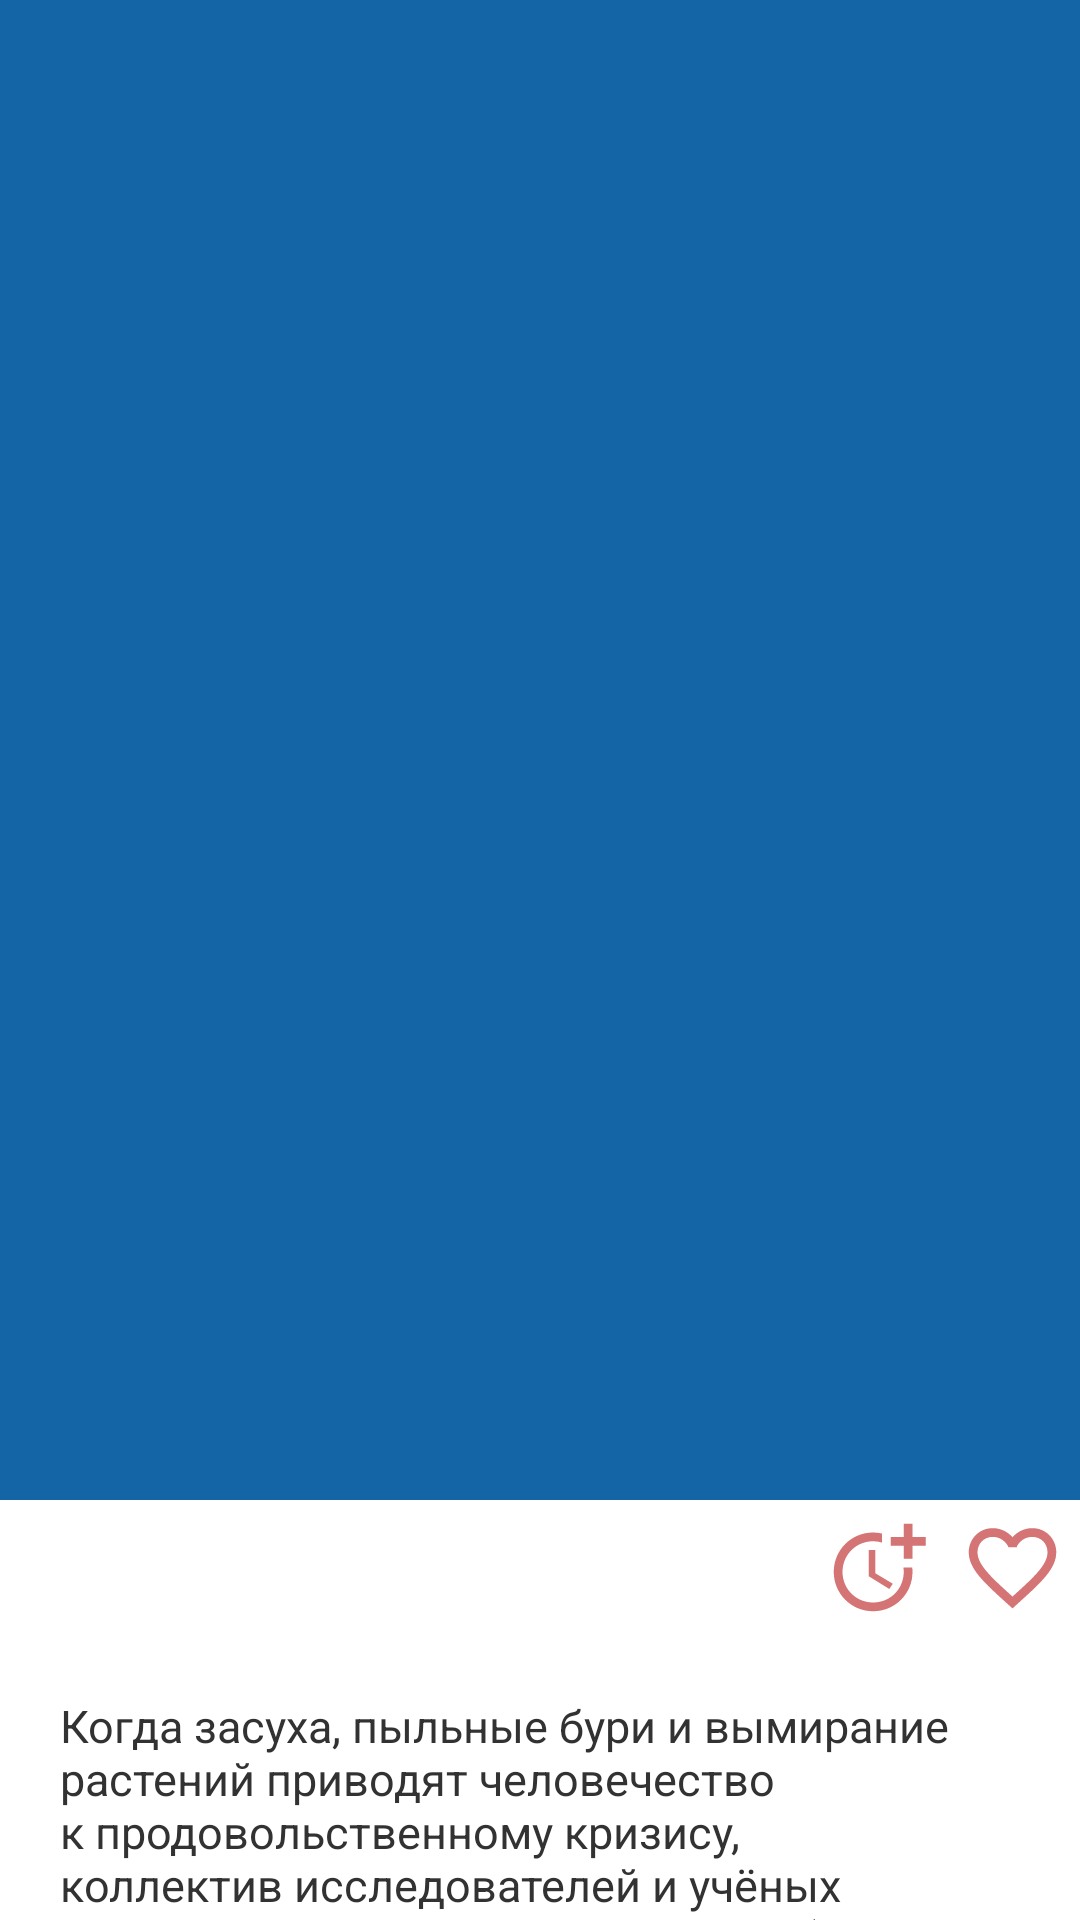

Icons on this 1080*1920 Android screen, each with the point to tap as [x,y]:
favorite roz: [1012,1568]
time: [879,1567]
